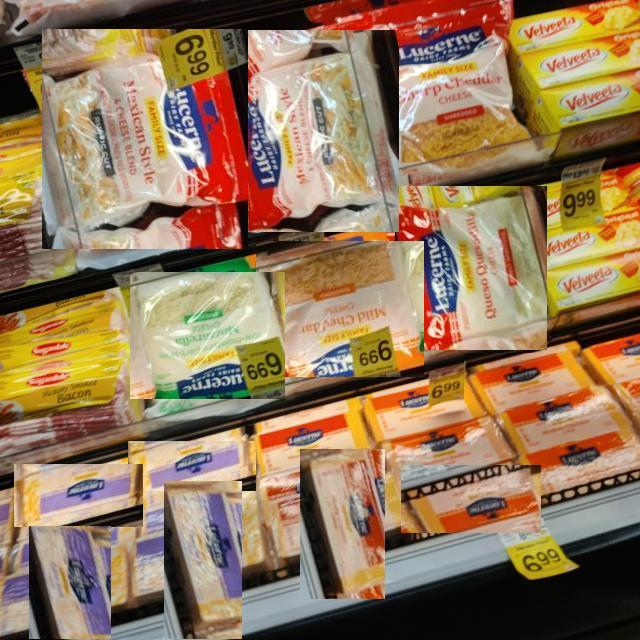Cheese: (42, 30, 248, 249), (220, 29, 399, 232), (357, 0, 543, 175), (395, 186, 547, 350), (255, 241, 424, 377), (129, 271, 285, 399), (300, 450, 385, 599), (164, 482, 242, 639), (400, 465, 541, 533), (28, 526, 111, 640), (14, 463, 143, 527), (465, 354, 593, 409), (246, 409, 369, 464), (127, 440, 256, 491)
